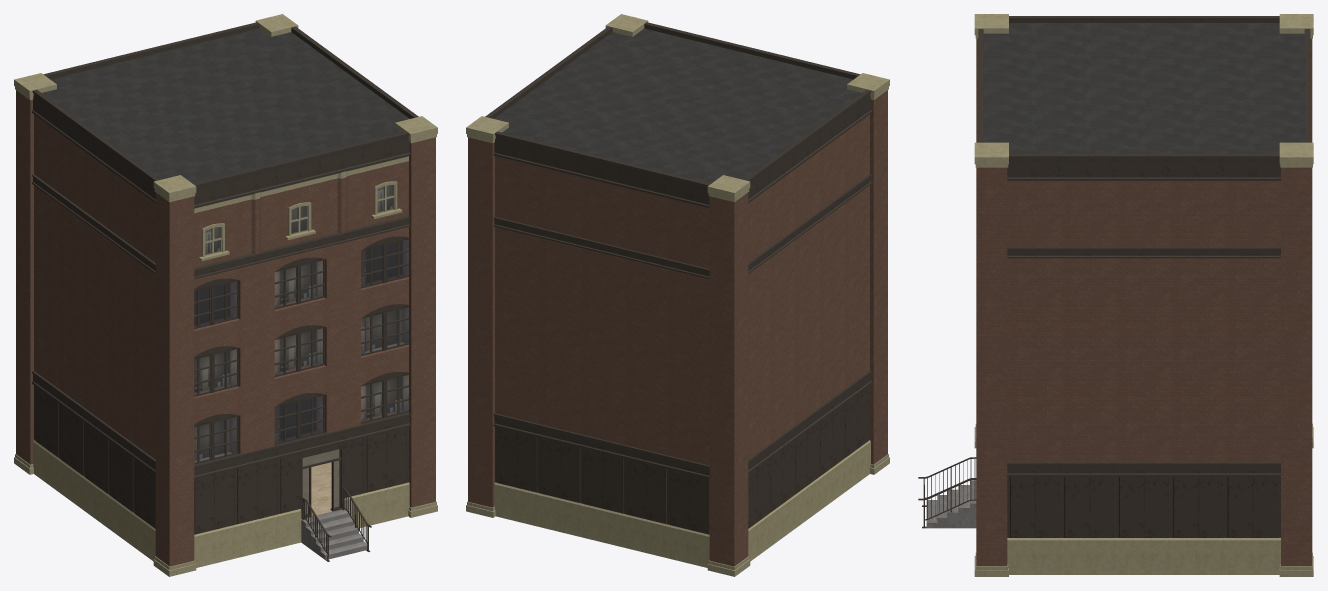
File: Building_Small_1.gltf
3 renders of one model, left to right at view 1: azimuth 30°, elevation 25°; view 2: azimuth 150°, elevation 25°; view 3: azimuth 270°, elevation 25°, orthographic. The views are drawn at different scales.
Visible parts, largest first — view 1: Building_Small_1; view 2: Building_Small_1; view 3: Building_Small_1.
Boxes of the visible parts, x1,y1,x2,y2 form: Building_Small_1: (14, 14, 437, 576); Building_Small_1: (466, 14, 889, 576); Building_Small_1: (918, 14, 1313, 576).
Bounding box in the file's own units: 12.46 × 17.03 × 14.54.
13 materials, 12 textured.
